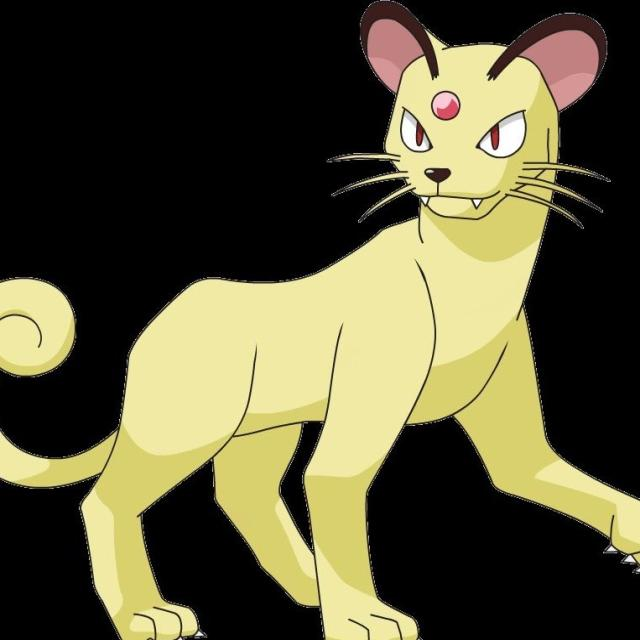Persian: (32, 14, 582, 640)
